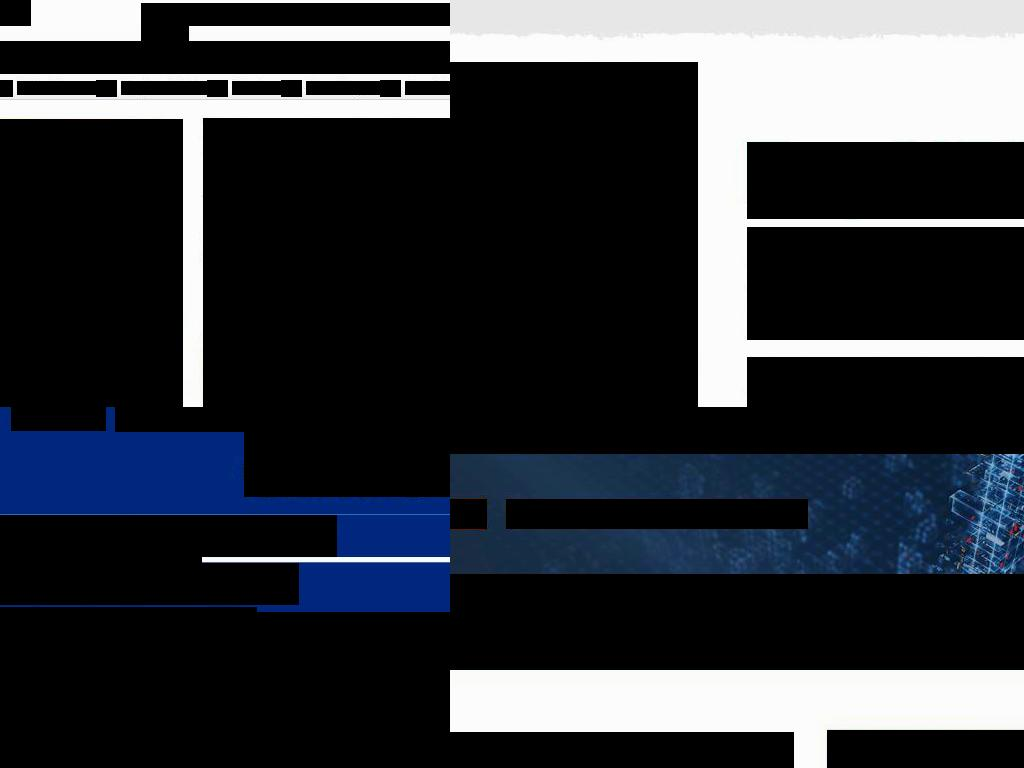button: (450, 574, 1024, 670), (244, 407, 450, 497), (203, 335, 450, 407), (506, 499, 808, 529), (125, 515, 259, 557), (248, 41, 410, 74), (0, 515, 125, 557), (259, 515, 337, 557), (68, 41, 164, 74), (30, 557, 99, 599), (164, 41, 248, 74), (140, 557, 202, 599), (198, 407, 294, 432), (11, 407, 106, 431), (0, 41, 68, 74), (261, 3, 356, 26), (115, 407, 199, 432), (0, 691, 89, 713), (355, 3, 439, 26), (99, 557, 140, 599), (193, 3, 262, 26), (410, 41, 450, 74), (0, 557, 30, 599), (141, 3, 194, 26), (141, 26, 189, 49), (438, 3, 450, 26)
heading: (203, 118, 450, 407), (0, 612, 450, 768), (747, 142, 1024, 219), (450, 424, 1024, 454), (0, 704, 202, 768), (0, 563, 299, 605), (450, 608, 791, 633), (396, 341, 450, 407)
image: (450, 62, 698, 407), (0, 119, 183, 407), (244, 407, 450, 497), (203, 335, 386, 407), (319, 699, 450, 768), (122, 407, 141, 423), (205, 407, 224, 423)
link: (203, 221, 450, 266), (121, 81, 208, 95), (954, 251, 1024, 268), (17, 81, 98, 95), (306, 81, 382, 95), (232, 81, 281, 95), (405, 81, 450, 95)
text: (747, 251, 1024, 340), (0, 607, 257, 679), (747, 357, 1024, 407), (747, 227, 1024, 268), (0, 691, 238, 737), (507, 500, 807, 528), (450, 633, 791, 655), (450, 589, 791, 608), (747, 357, 999, 374), (269, 519, 323, 546), (227, 407, 280, 423), (144, 407, 193, 423), (998, 357, 1024, 374), (96, 80, 117, 97), (207, 80, 228, 97), (281, 80, 302, 97), (380, 80, 401, 97), (0, 80, 13, 97)
